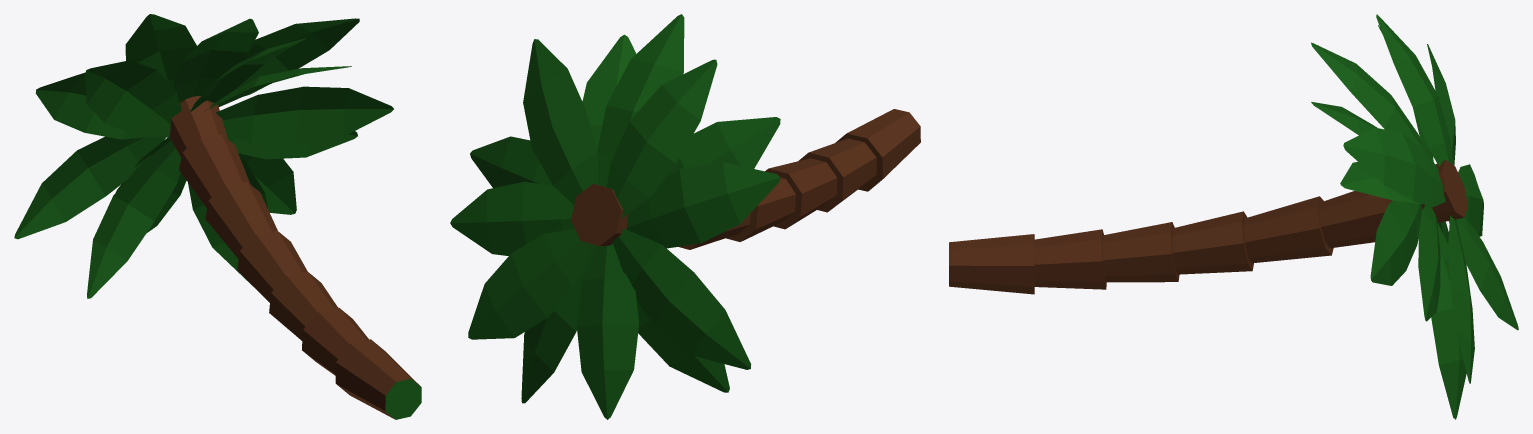
File: Palmera1.fbx
The picture shows the model from 3 angles, left to right: view 1: azimuth 30°, elevation 25°; view 2: azimuth 150°, elevation 25°; view 3: azimuth 270°, elevation 25°; orthographic projection. The views are drawn at different scales.
Parts seen in each view (by area): view 1: Palmera1G; view 2: Palmera1G; view 3: Palmera1G.
Part boxes in pixels (left/top/right/bottom): Palmera1G: left=14, top=14, right=421, bottom=419; Palmera1G: left=450, top=14, right=920, bottom=419; Palmera1G: left=949, top=14, right=1518, bottom=419.
Size of the model in its own units: 527 by 524 by 800.
